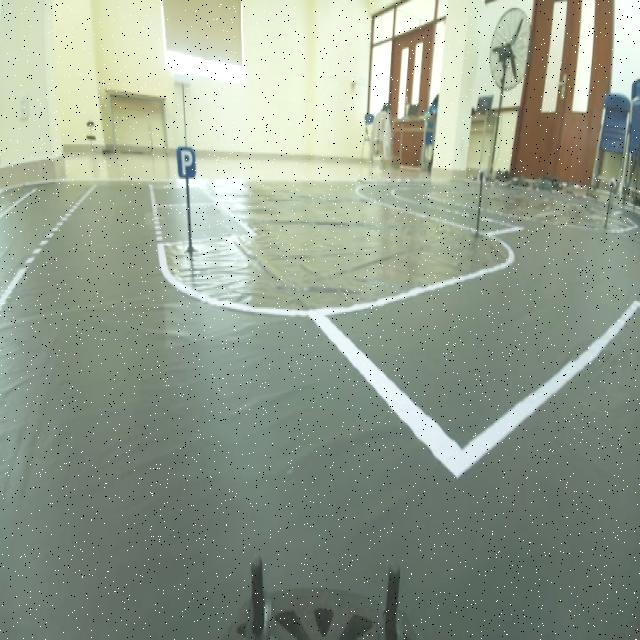parking: (176, 133, 202, 190)
